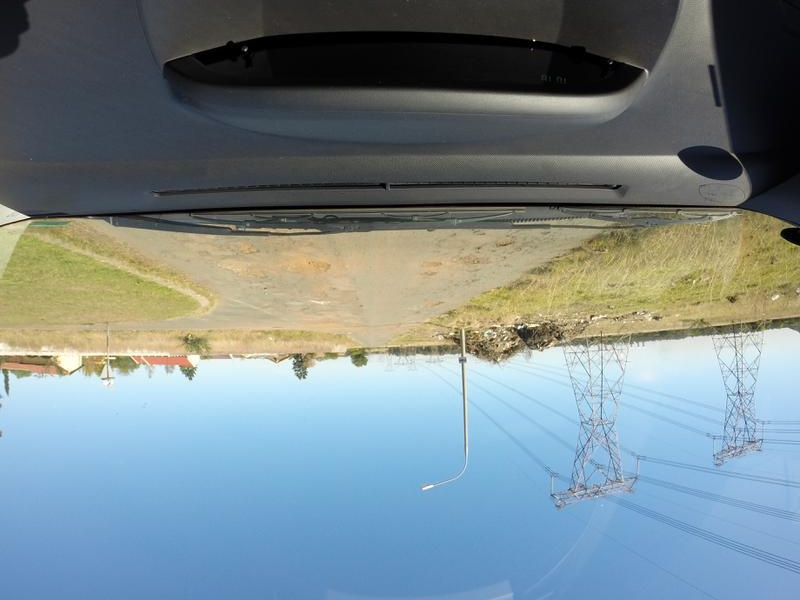pothole: (281, 252, 334, 283), (214, 259, 268, 288), (216, 235, 260, 258), (453, 249, 488, 272), (412, 251, 441, 271), (421, 293, 440, 315), (488, 236, 515, 250)
